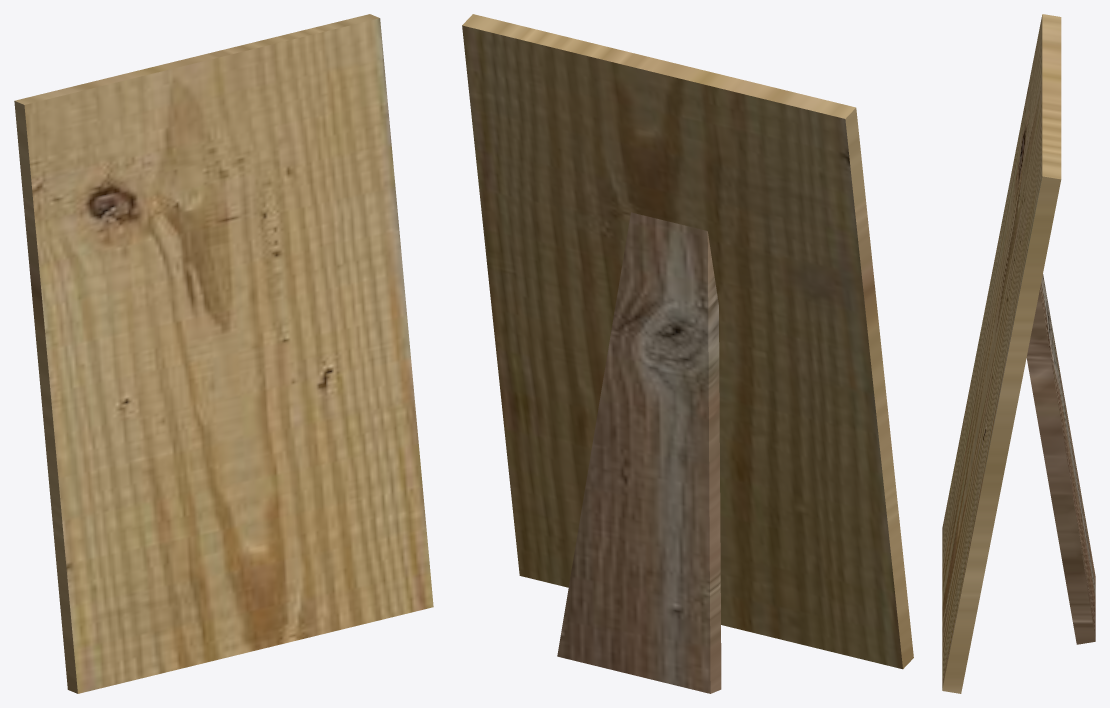
Rendered from boardsign.fbx.
3 views of the same model, side by side, from view 1: azimuth 30°, elevation 25°; view 2: azimuth 150°, elevation 25°; view 3: azimuth 270°, elevation 25° (orthographic). The views are drawn at different scales.
Parts seen in each view (by area): view 1: Plane.001; view 2: Plane.001; view 3: Plane.001.
Part boxes in pixels (x1,y1,x2,y2): Plane.001: [14, 14, 433, 693]; Plane.001: [462, 14, 913, 693]; Plane.001: [942, 14, 1095, 693].
Bounding box in the file's own units: 200 × 297 × 79.85.
